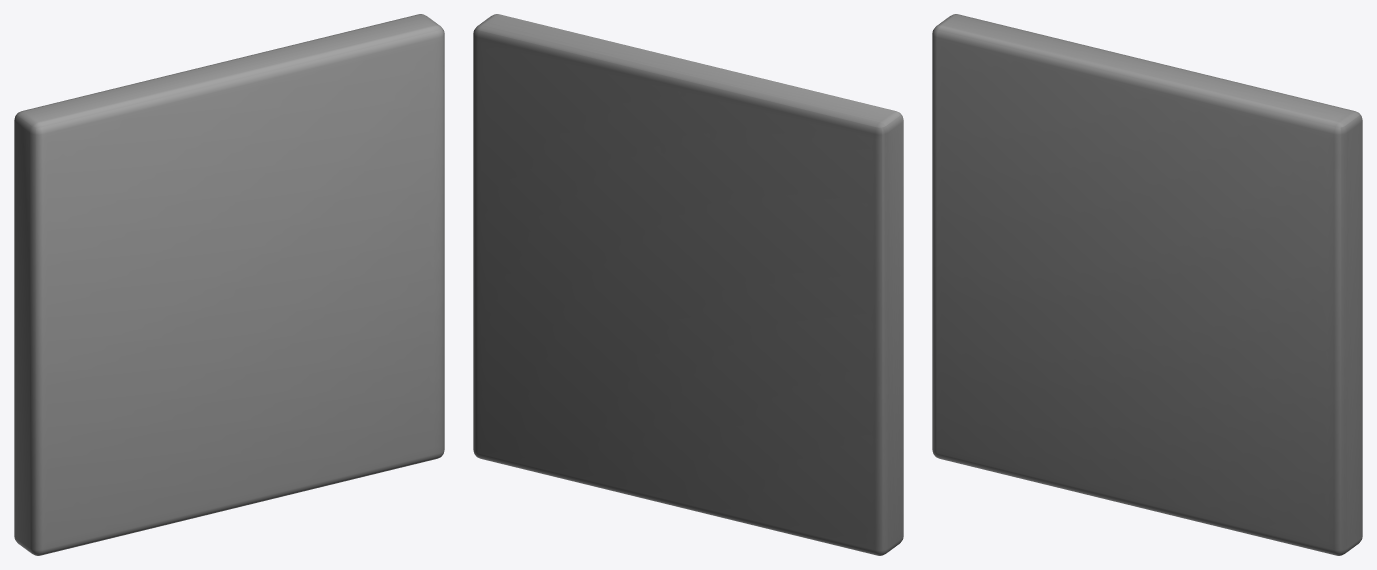
The model's file is Model_Block02.FBX.
3 views of the same model, side by side, from view 1: azimuth 30°, elevation 25°; view 2: azimuth 150°, elevation 25°; view 3: azimuth 330°, elevation 25° (orthographic).
Visible parts, largest first — view 1: ChamferBox388; view 2: ChamferBox388; view 3: ChamferBox388.
Part boxes in pixels (<box>): ChamferBox388: <box>14,14,444,555</box>; ChamferBox388: <box>473,14,903,555</box>; ChamferBox388: <box>932,14,1362,555</box>.
Bounding box in the file's own units: 50 × 50 × 5.
